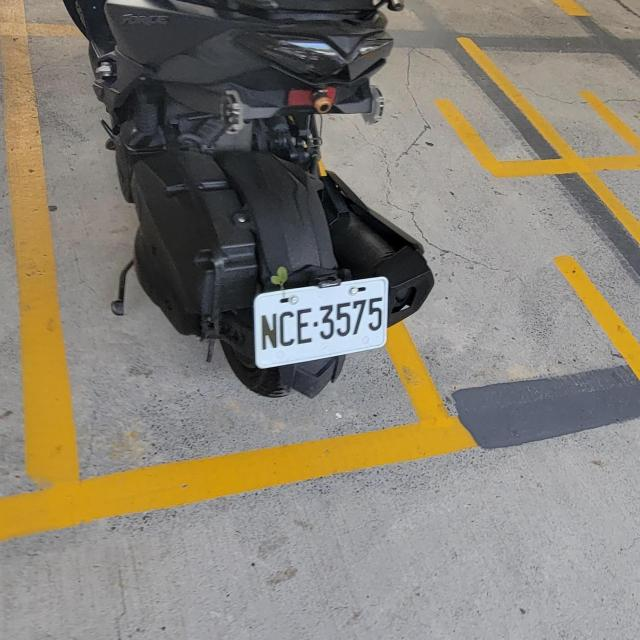W: (252, 278, 390, 366)
